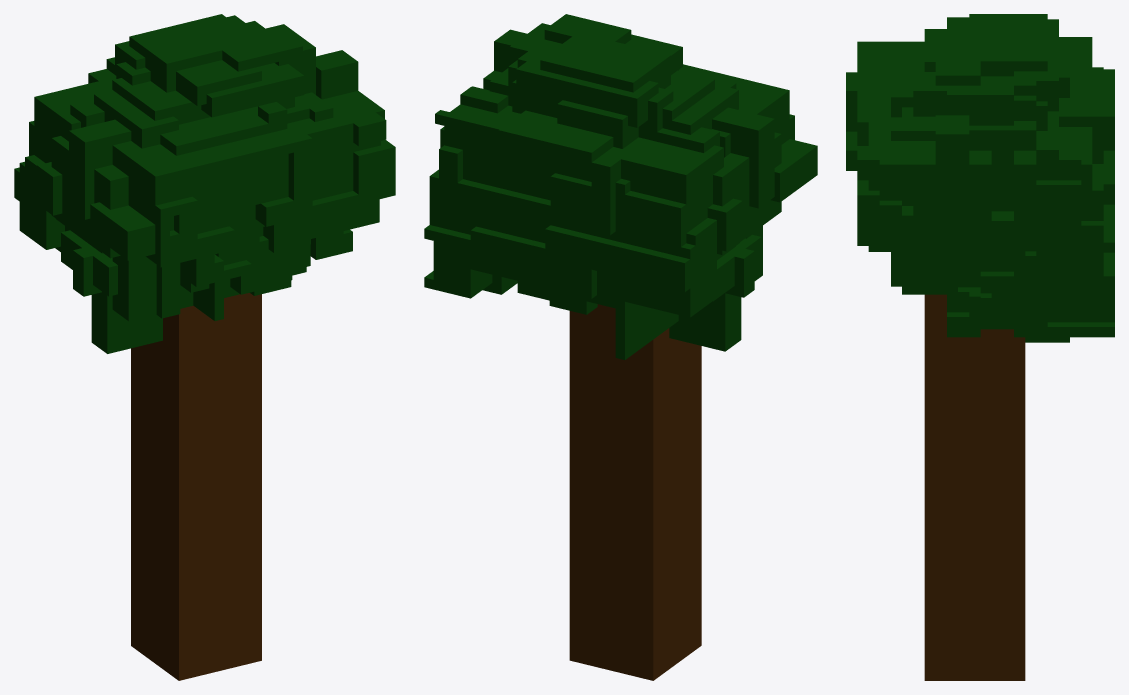
The model's file is tree.obj.
3 views of the same model, side by side, from view 1: azimuth 30°, elevation 25°; view 2: azimuth 150°, elevation 25°; view 3: azimuth 270°, elevation 25° (orthographic). The views are drawn at different scales.
Bounding box in the file's own units: 2.9 × 6.2 × 2.4.
